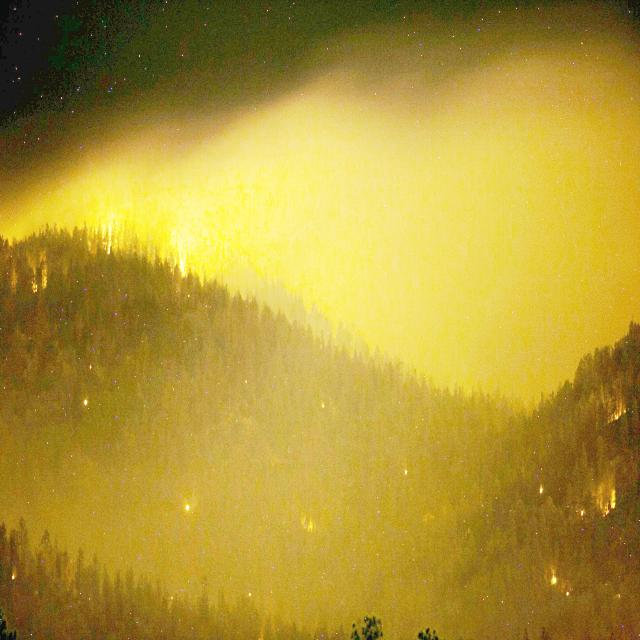api: (603, 482, 625, 519), (547, 570, 563, 589), (306, 519, 322, 537), (538, 486, 548, 497)
